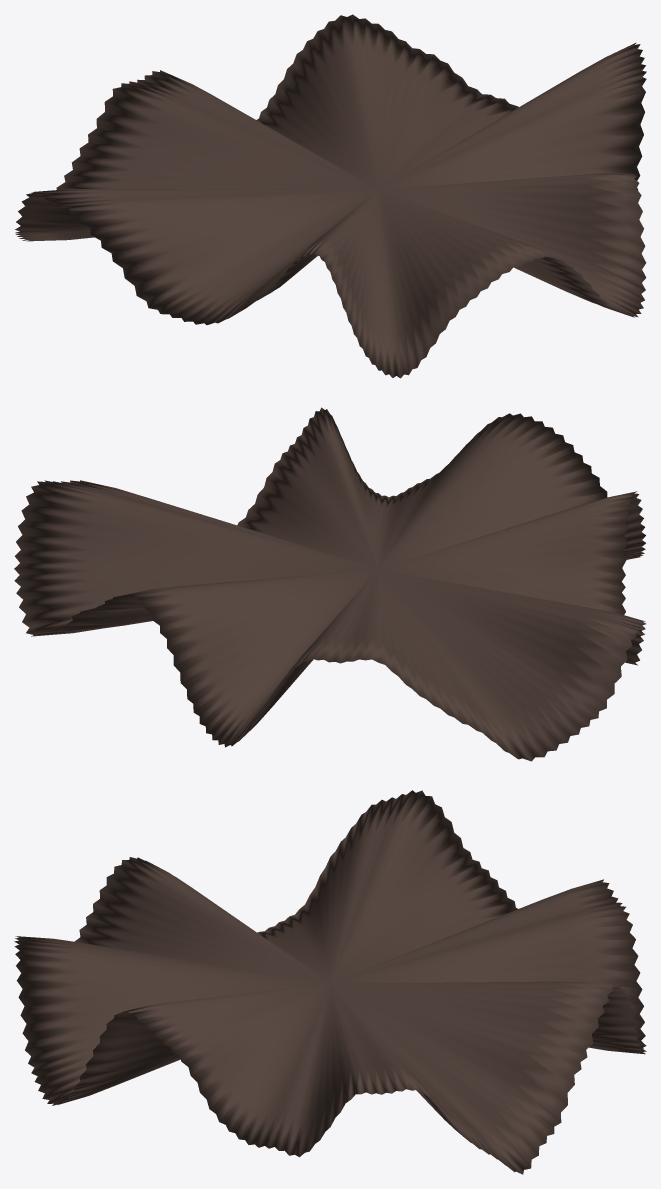
Rendered from WoodEar.fbx.
3 renders of one model, top to bottom at view 1: azimuth 30°, elevation 25°; view 2: azimuth 150°, elevation 25°; view 3: azimuth 270°, elevation 25°, orthographic. The views are drawn at different scales.
Visible parts, largest first — view 1: WoodEar; view 2: WoodEar; view 3: WoodEar.
Boxes of the visible parts, left/top/right/bottom form: WoodEar: left=15, top=14, right=646, bottom=378; WoodEar: left=14, top=407, right=645, bottom=761; WoodEar: left=14, top=790, right=646, bottom=1174.
Size of the model in its own units: 0.0476 by 0.00865 by 0.0417.
